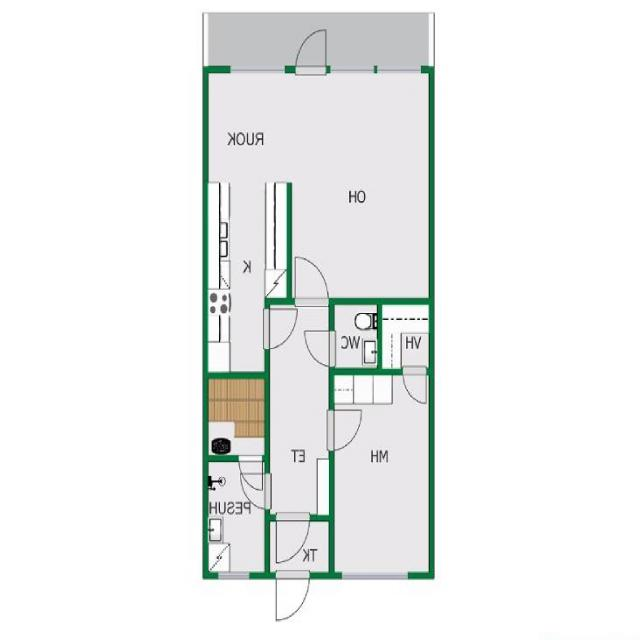door: (276, 514, 310, 566), (276, 573, 310, 624), (295, 24, 326, 73), (330, 410, 364, 450), (237, 473, 269, 510), (302, 331, 334, 367), (238, 455, 262, 493), (403, 369, 426, 406)
